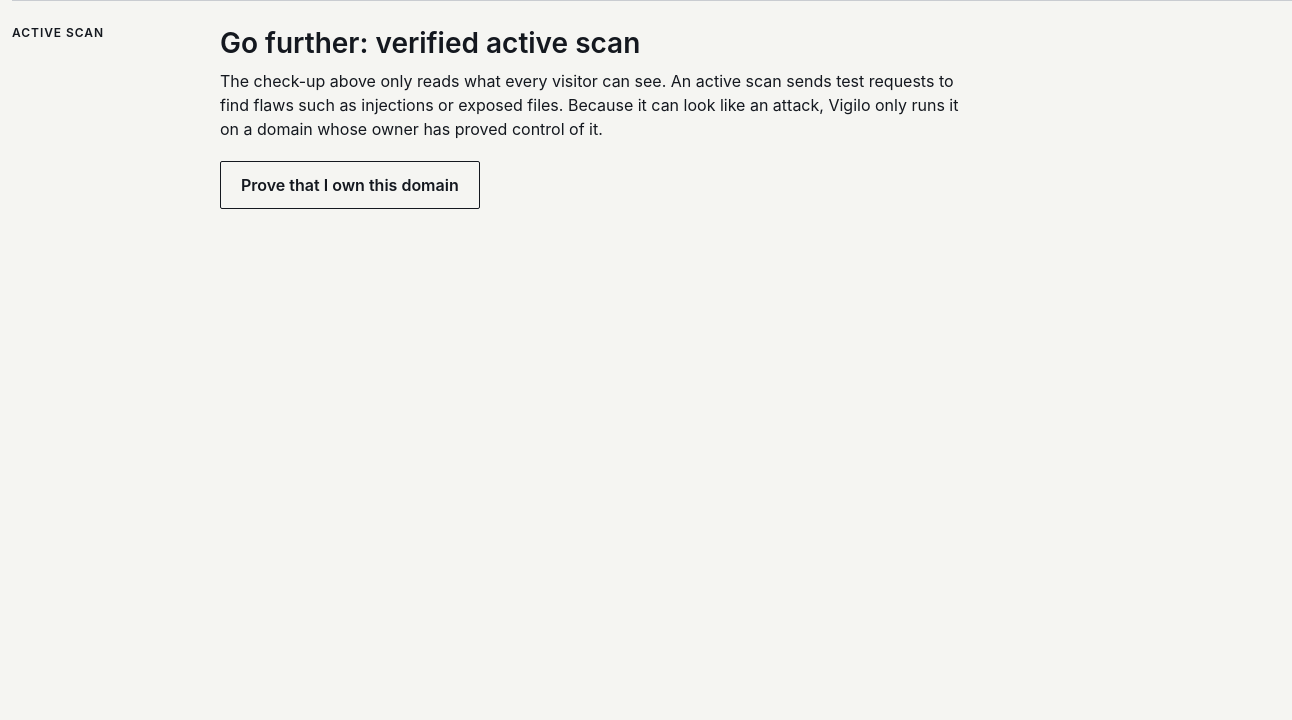
Test case: OwnershipVerification › checks by itself every 30 seconds
Later steps or results of the test are not shown.
Click the button "Prove that I own this domain": (350, 185) [220, 161, 480, 209]
Wait 60000 ms
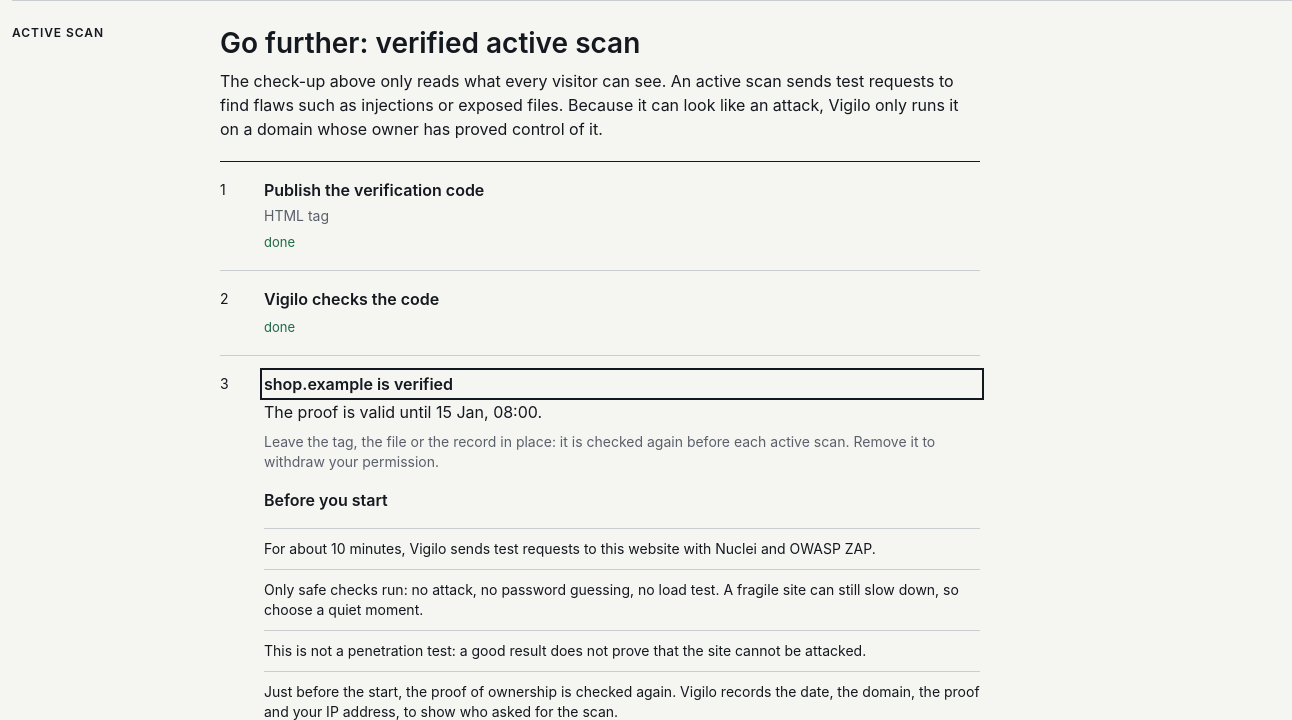
Check: the heading "Publish the verification code" is shown, box [264, 180, 484, 200]
